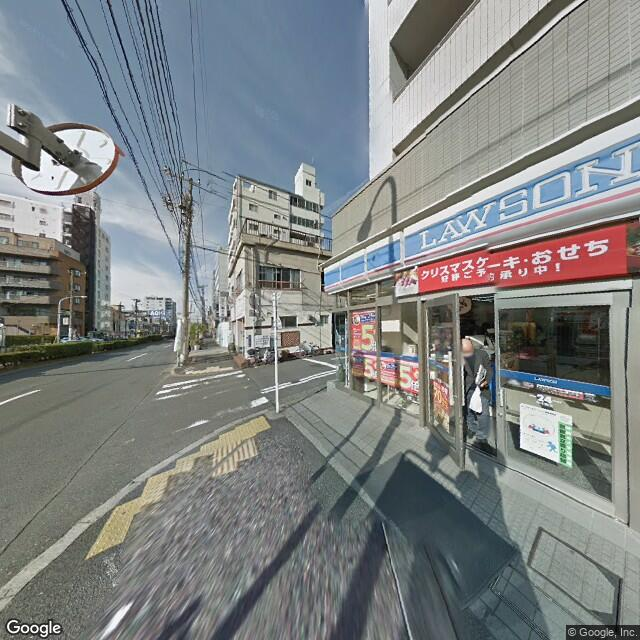lawson: (321, 119, 639, 296)
